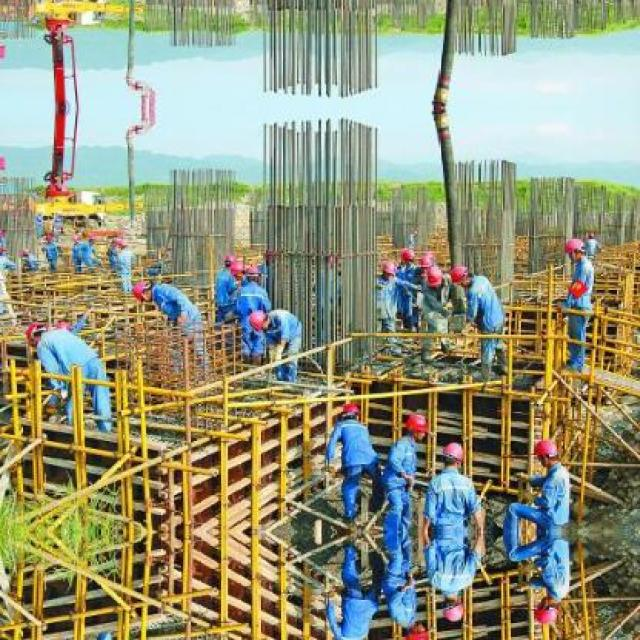helmet: (402, 411, 429, 442), (439, 437, 463, 471), (439, 590, 463, 624), (534, 594, 558, 624), (534, 438, 558, 467), (130, 275, 153, 303), (25, 320, 49, 346), (559, 234, 583, 260), (402, 620, 431, 637), (449, 261, 471, 283), (247, 308, 270, 329), (377, 257, 395, 281), (339, 402, 359, 423), (422, 265, 442, 286), (228, 258, 246, 280)
